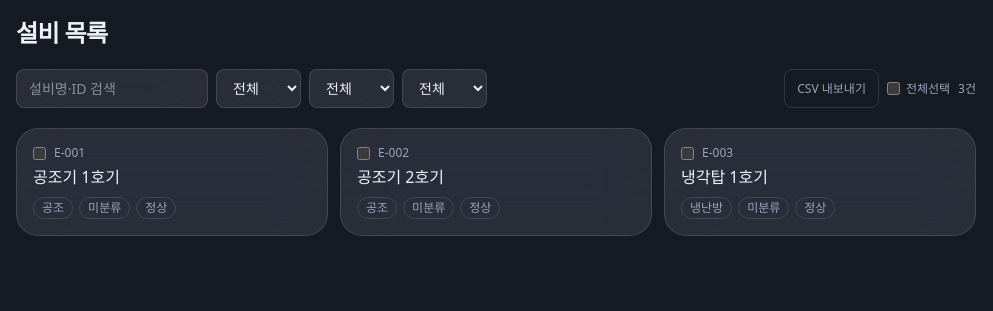
Test case: EquipmentList 다중선택/일괄삭제 › 카드 체크박스를 클릭해도 상세페이지로 이동하지 않고 선택만 토글된다
Click the checkbox named "공조기 1호기 선택": click(40, 153) [33, 146, 46, 160]
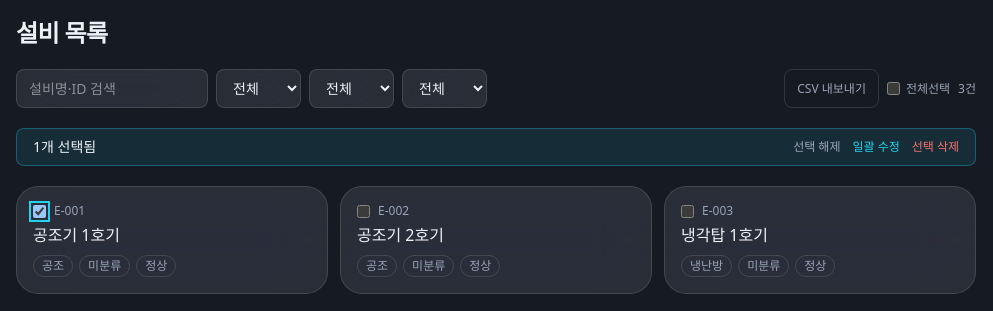
Expected: the heading "설비 목록" is shown, [16, 16, 108, 49]
Result: the text "1개 선택됨" is shown at [33, 137, 96, 157]
